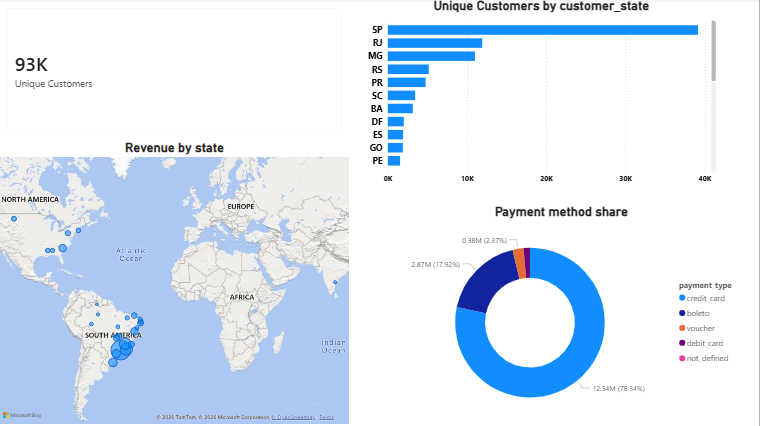

This screenshot's page, from the dashboard's own definition file:
{"tool":"powerbi","page":{"name":"Customers and Geography","canvas":[1280,720],"ordinal":1},"visuals":[{"type":"map","title":"Revenue by state","fields":{"Size":["_Measures.Total Revenue"],"Category":["dim_customer.State Location"]},"box":[0,238.5,596.3,482.1],"z":0},{"type":"donutChart","title":"Payment method share","fields":{"Category":["fact_payments.payment_type"],"Y":["Sum(fact_payments.payment_value)"]},"box":[640,346,616.5,374.6],"z":1000},{"type":"barChart","fields":{"Y":["_Measures.Unique Customers"],"Category":["dim_customer.customer_state"]},"box":[616.5,0,596.3,320.8],"z":2000},{"type":"cardVisual","fields":{"Data":["_Measures.Unique Customers"]},"box":[0,0,596.3,238.5],"z":3000}]}

Visuals, with their boxes in screenshot pixels (x1, y1, x2, y2), scaled from the page's 1280x720 canvas onto the 760x426 screenshot:
"Revenue by state" map: 0 141 354 425
"Payment method share" donutChart: 380 205 746 425
barChart - _Measures.Unique Customers x dim_customer.customer_state: 366 0 720 190
cardVisual - _Measures.Unique Customers: 0 0 354 141
